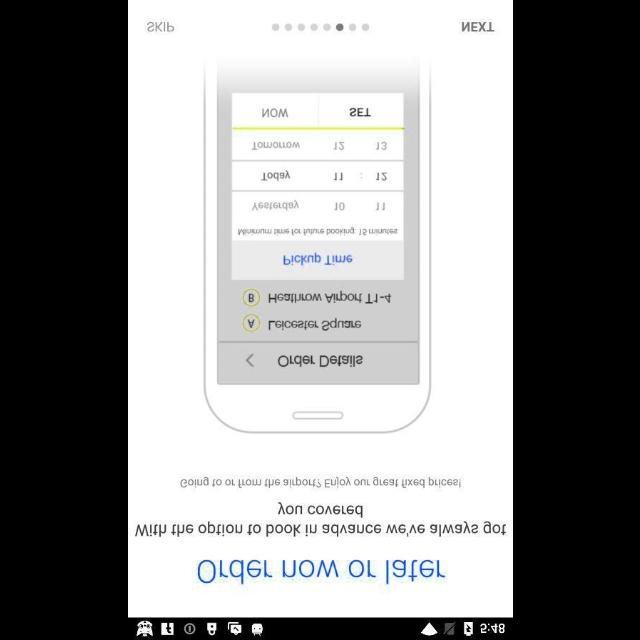image: (203, 62, 431, 434)
pageindicator: (271, 22, 369, 32)
text: (134, 501, 506, 537), (197, 558, 445, 584), (180, 476, 460, 489), (460, 22, 494, 32), (146, 22, 174, 32)
uppertaskbar: (128, 617, 512, 639)
